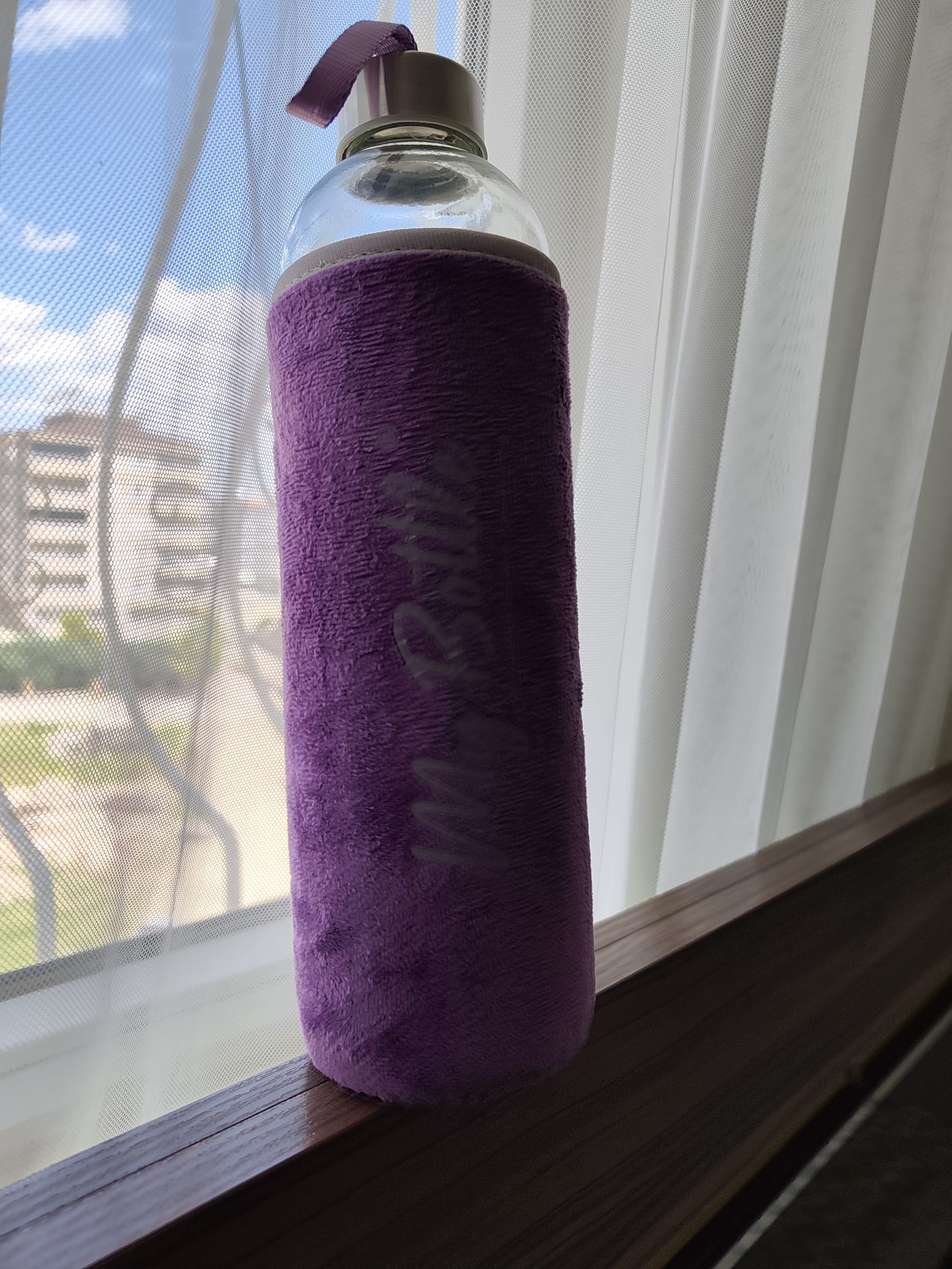su_sisesi: (255, 13, 608, 1118)
